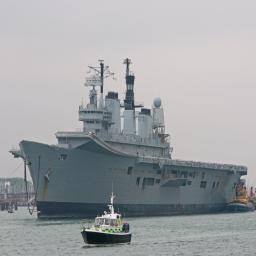Portanaves: (11, 56, 251, 224)
